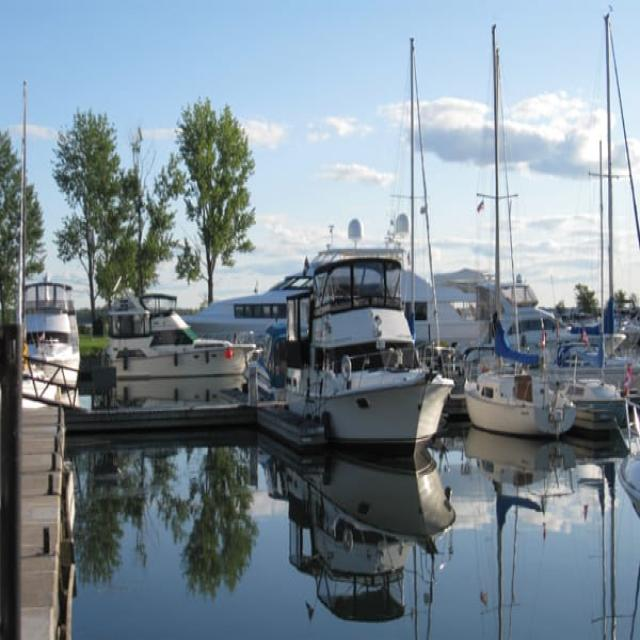houseboat: (268, 239, 443, 440)
